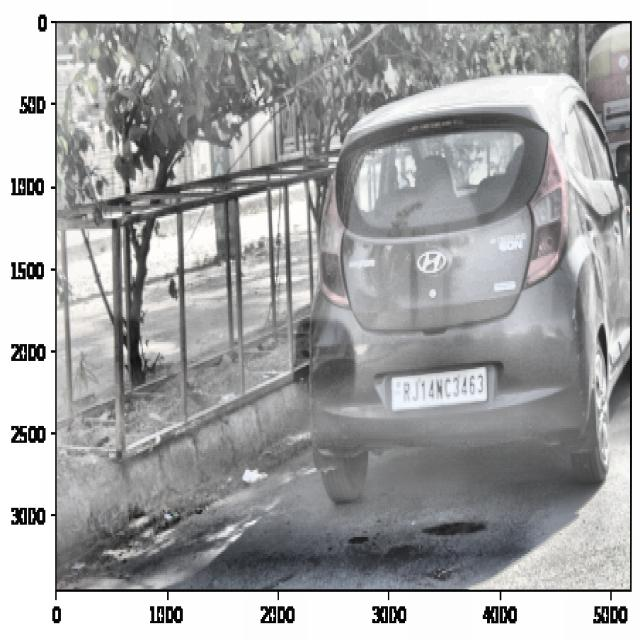license_plate: (398, 366, 490, 410)
